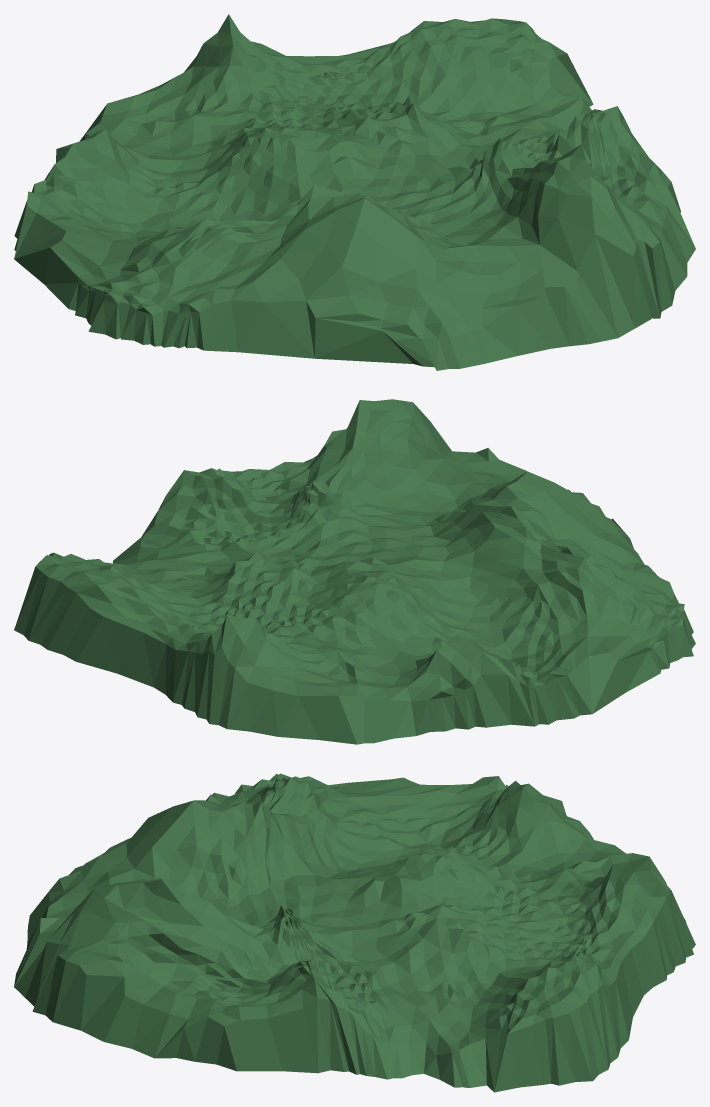
Rendered from Hill_031.glb.
3 views of the same model, one above another, from view 1: azimuth 30°, elevation 25°; view 2: azimuth 150°, elevation 25°; view 3: azimuth 270°, elevation 25° (orthographic). The views are drawn at different scales.
Visible parts, largest first — view 1: Hill_031; view 2: Hill_031; view 3: Hill_031.
Boxes of the visible parts, box(x1,y1,x2,y2) form: Hill_031: box(14, 14, 695, 370); Hill_031: box(14, 399, 695, 744); Hill_031: box(14, 773, 695, 1092).
Size of the model in its own units: 12.36 by 2.5 by 12.21.
Materials: 1 (1 with a texture image).
